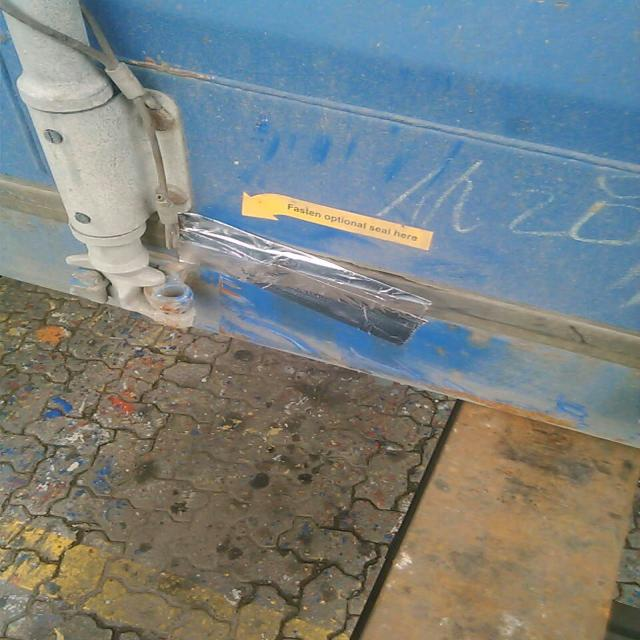rust: (422, 380, 577, 433), (157, 305, 195, 331)
